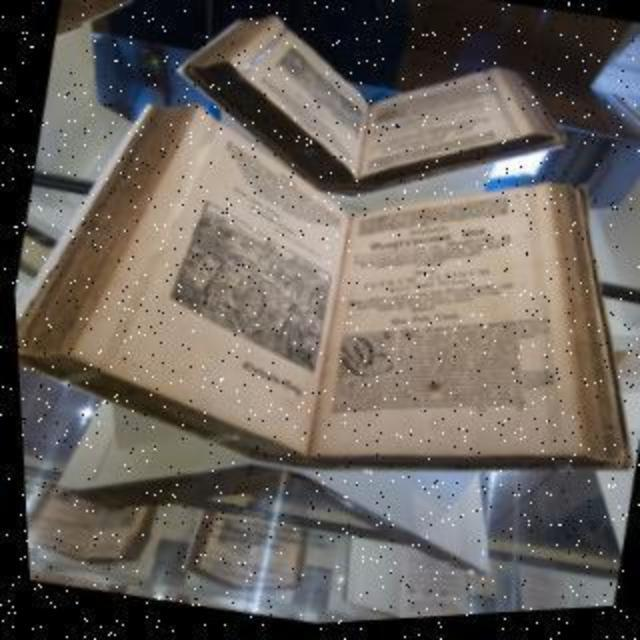book: (4, 48, 640, 550), (152, 0, 590, 250)
